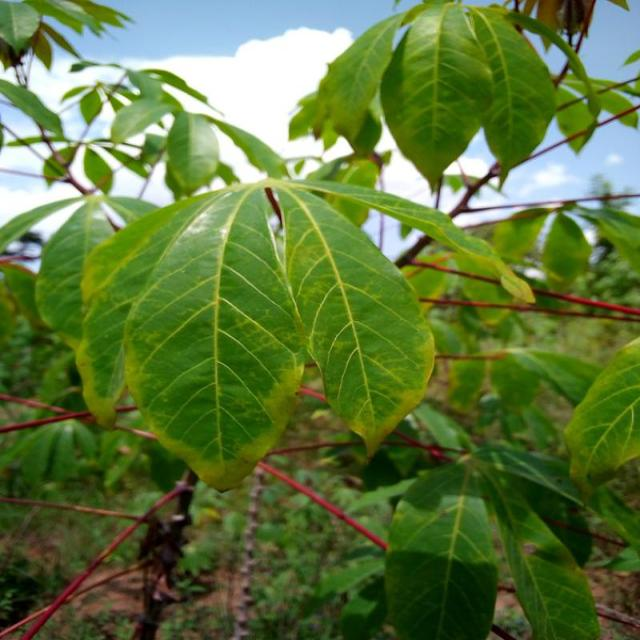cassava leaf: (77, 180, 308, 492), (270, 177, 436, 458), (379, 1, 493, 188), (466, 3, 556, 172), (562, 334, 640, 498)
